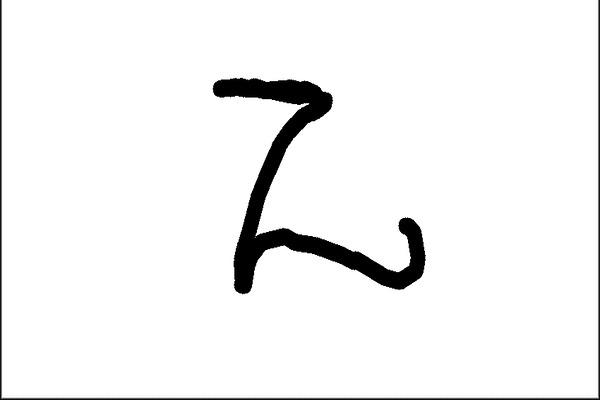Z: (207, 68, 441, 306)
